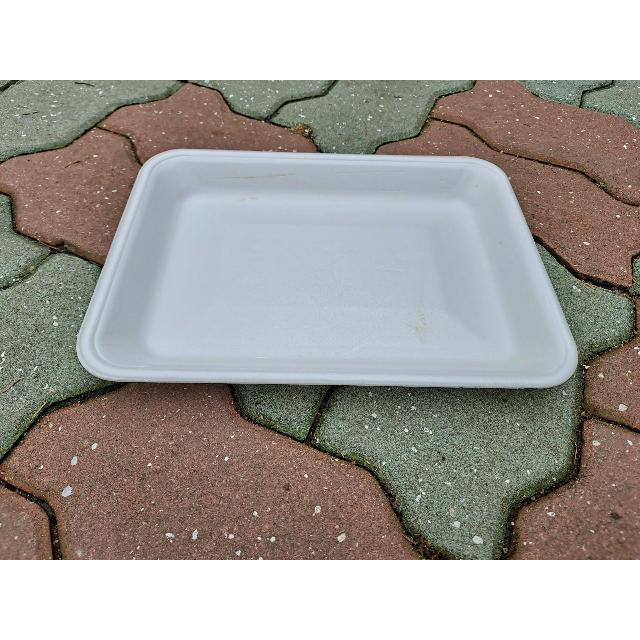Recipiente plastico: (78, 150, 576, 388)
